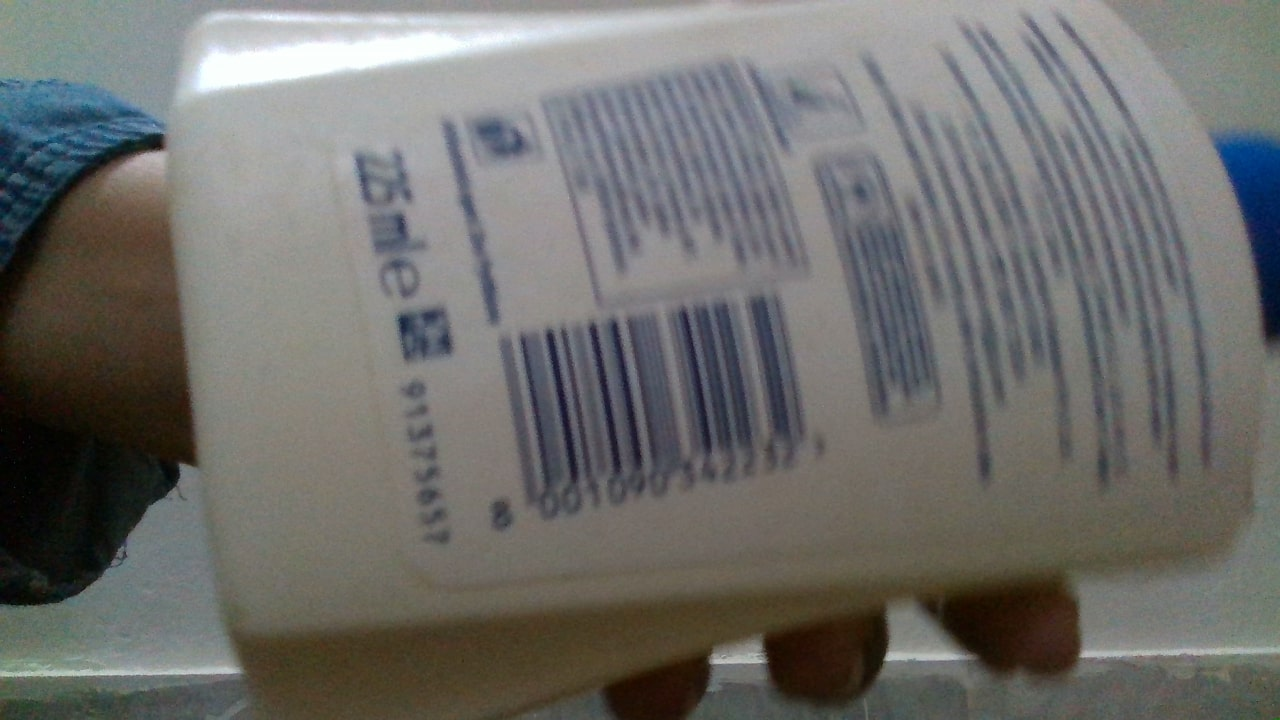Barcode: (498, 293, 810, 504)
